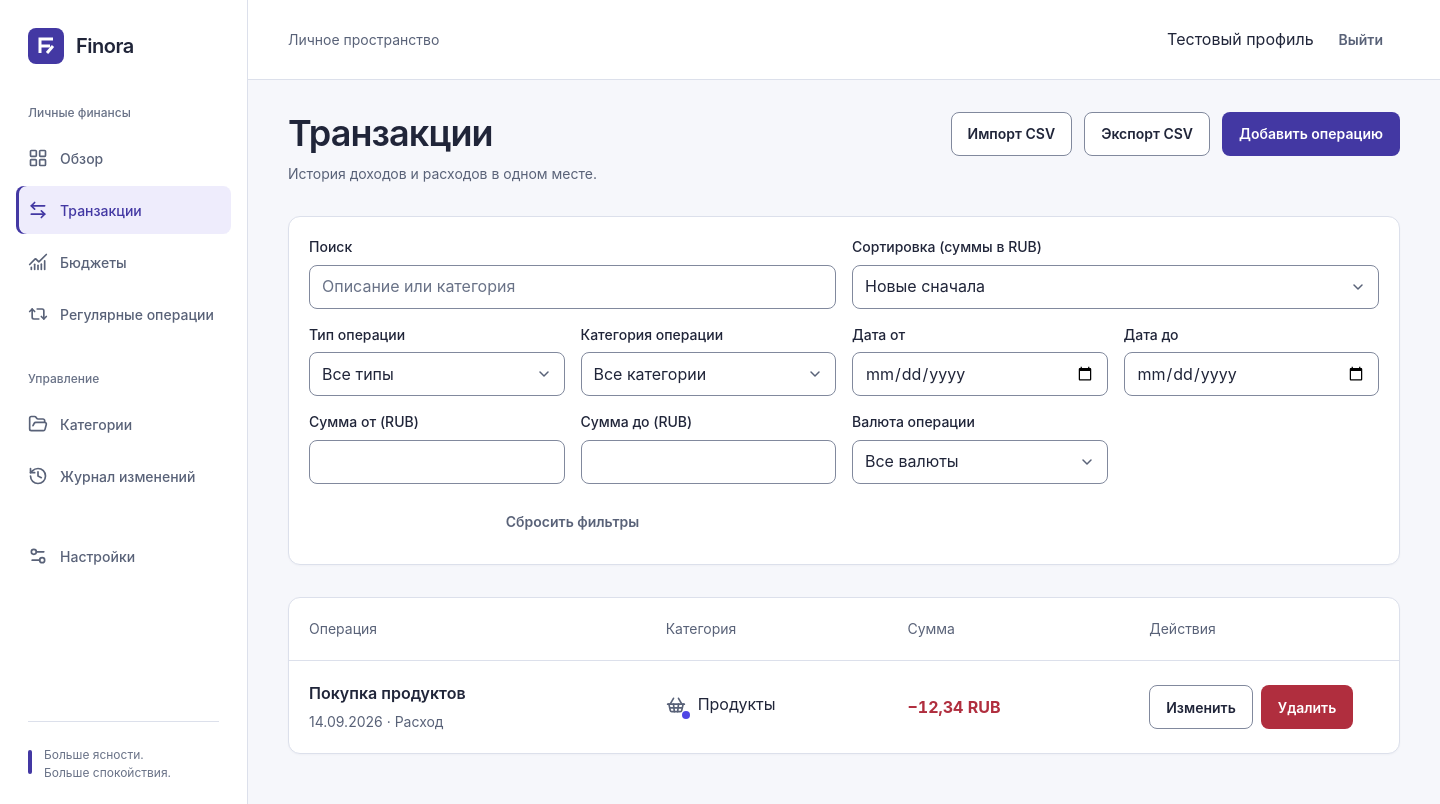
Создание: double click, pending, confirmed success и invalidation
Click the button "Добавить операцию".
click(1311, 134)  # box [1222,112,1400,156]
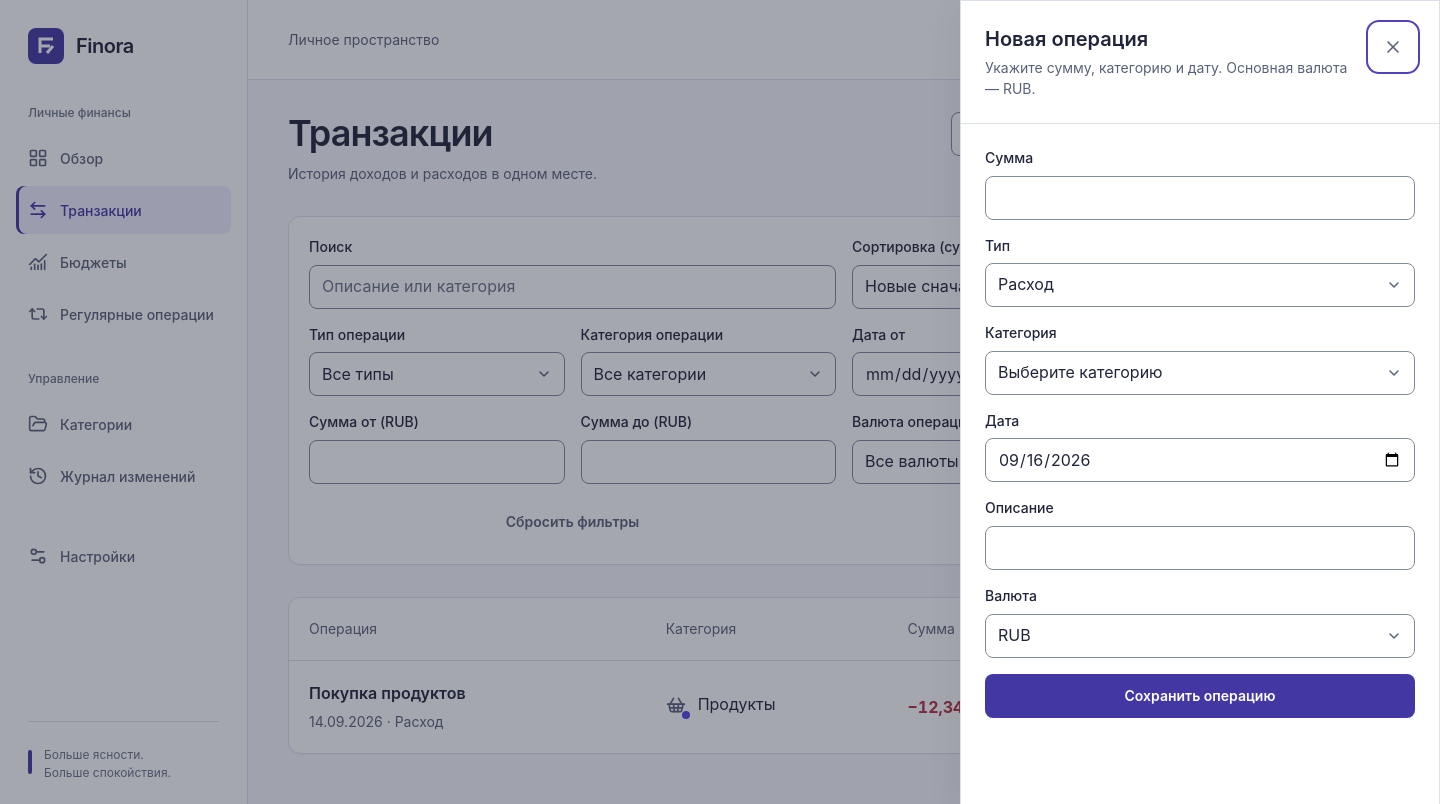
expect the button "Сохранить операцию" is enabled: met, box [985,674,1415,718]
Type "10,50" into the field labelled "Сумма".
click(1200, 198); type("10,50")  # box [985,176,1415,220]
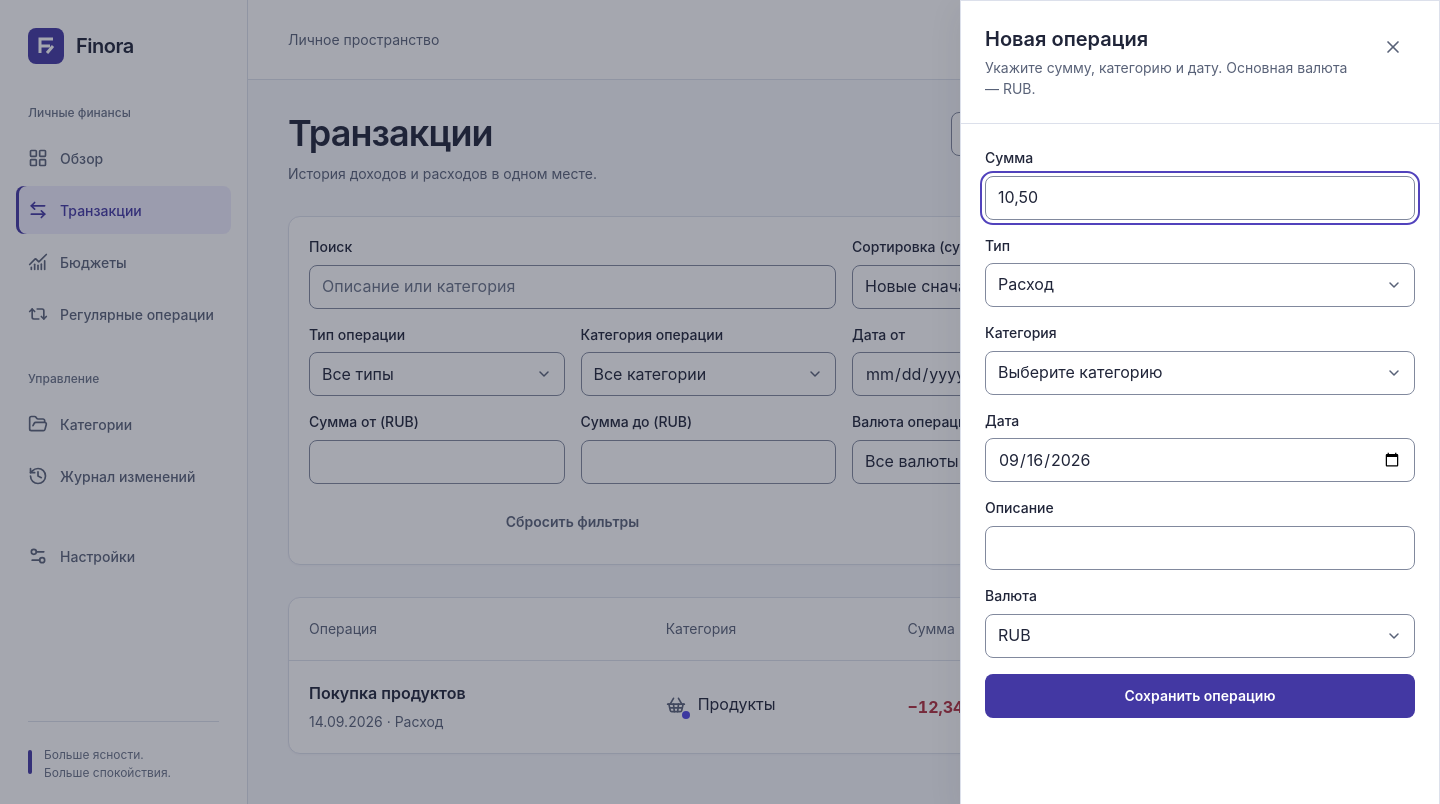
Select "Продукты" in the dropdown labelled "Категория" at (1200, 373), box [985,351,1415,395]
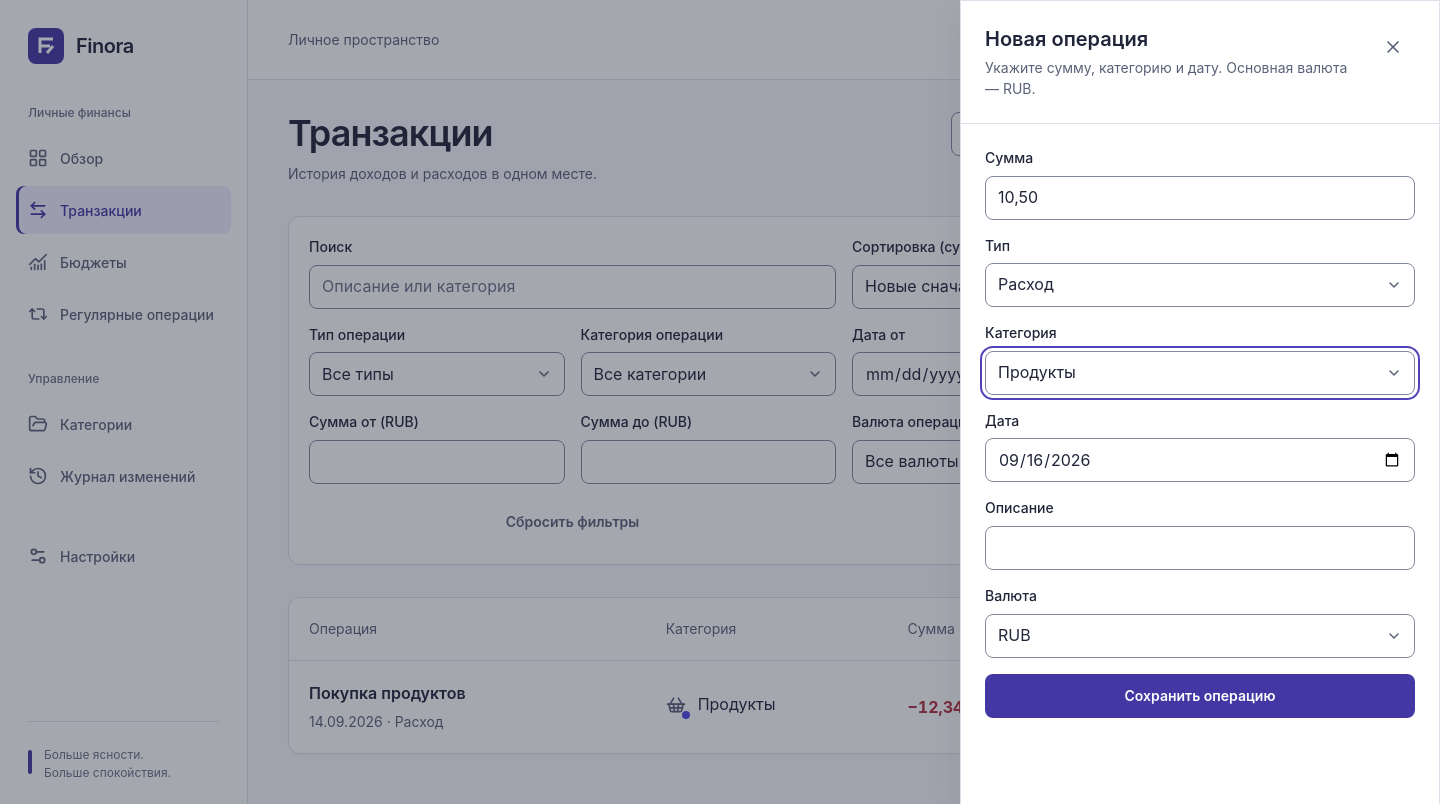
Type "Новый расход" into the field labelled "Описание".
click(1200, 548); type("Новый расход")  # box [985,526,1415,570]
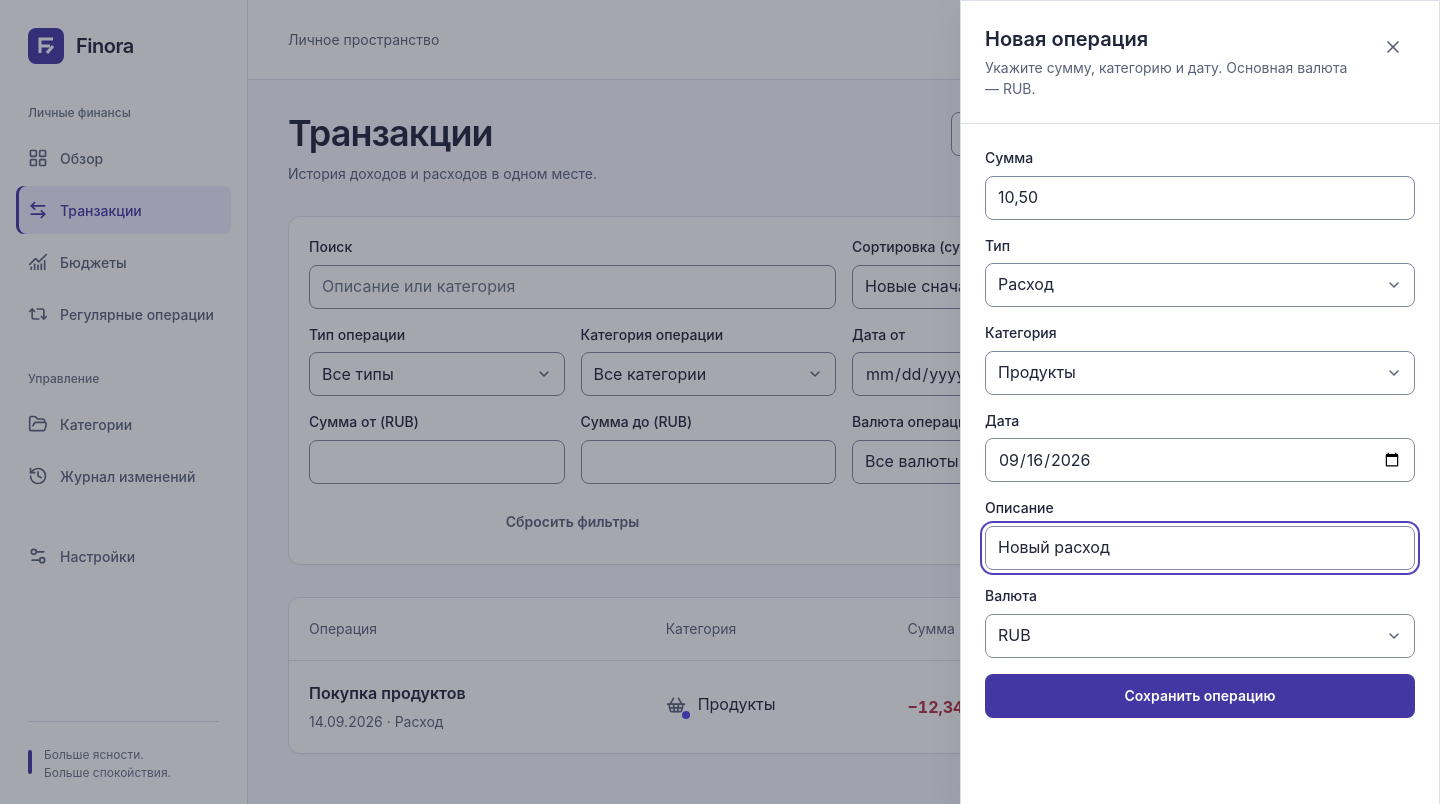
Double-click the button "Сохранить операцию".
double_click(1200, 696)  # box [985,674,1415,718]
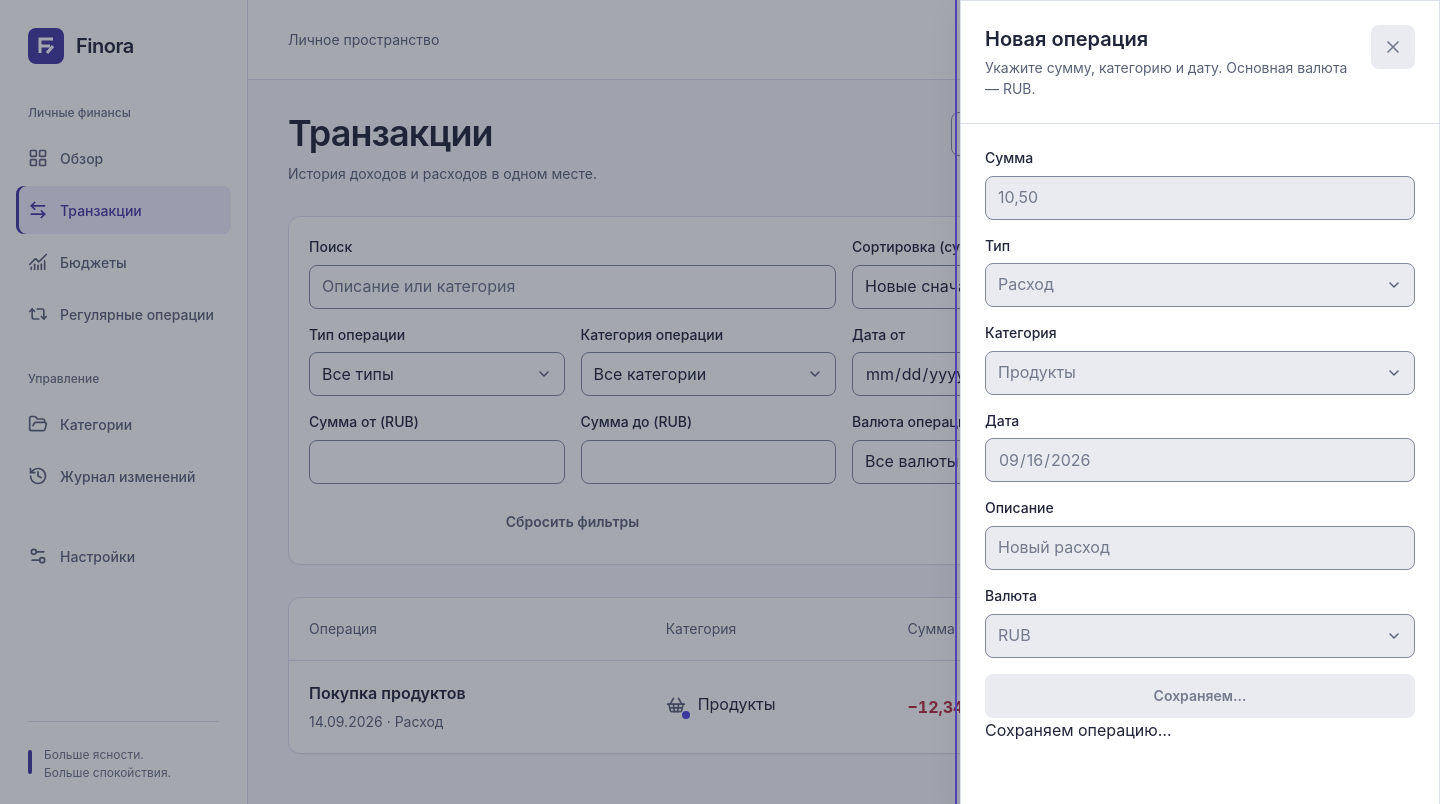
expect the button "Сохраняем…" is disabled: met, box [985,674,1415,718]
Press Escape
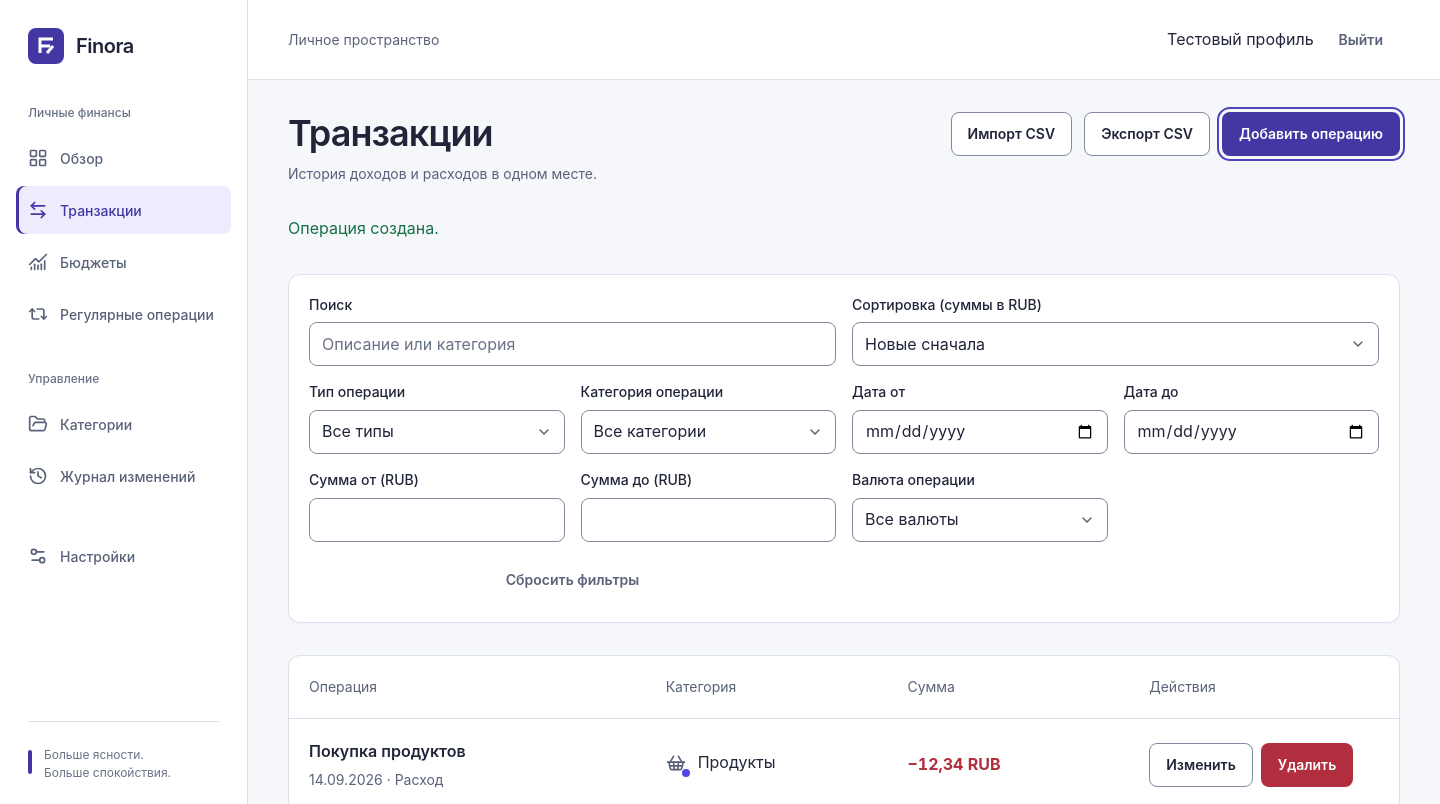
expect the text "Операция создана." is shown: met, box [288,218,439,238]
